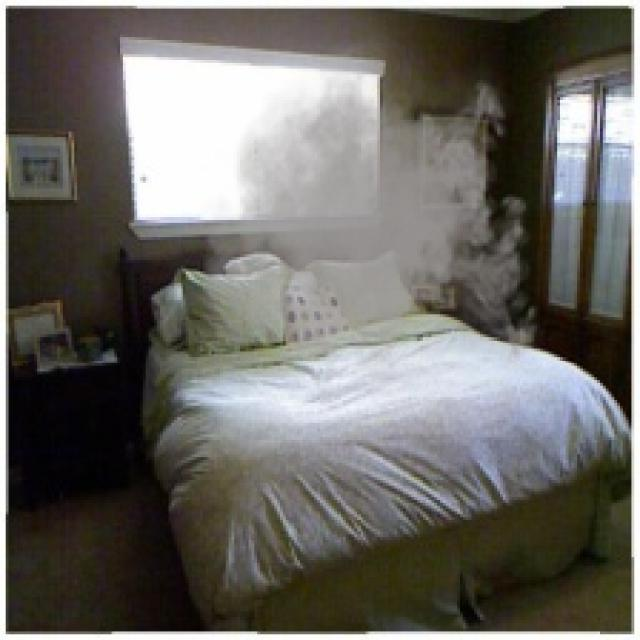Smoke: (197, 23, 549, 420)
